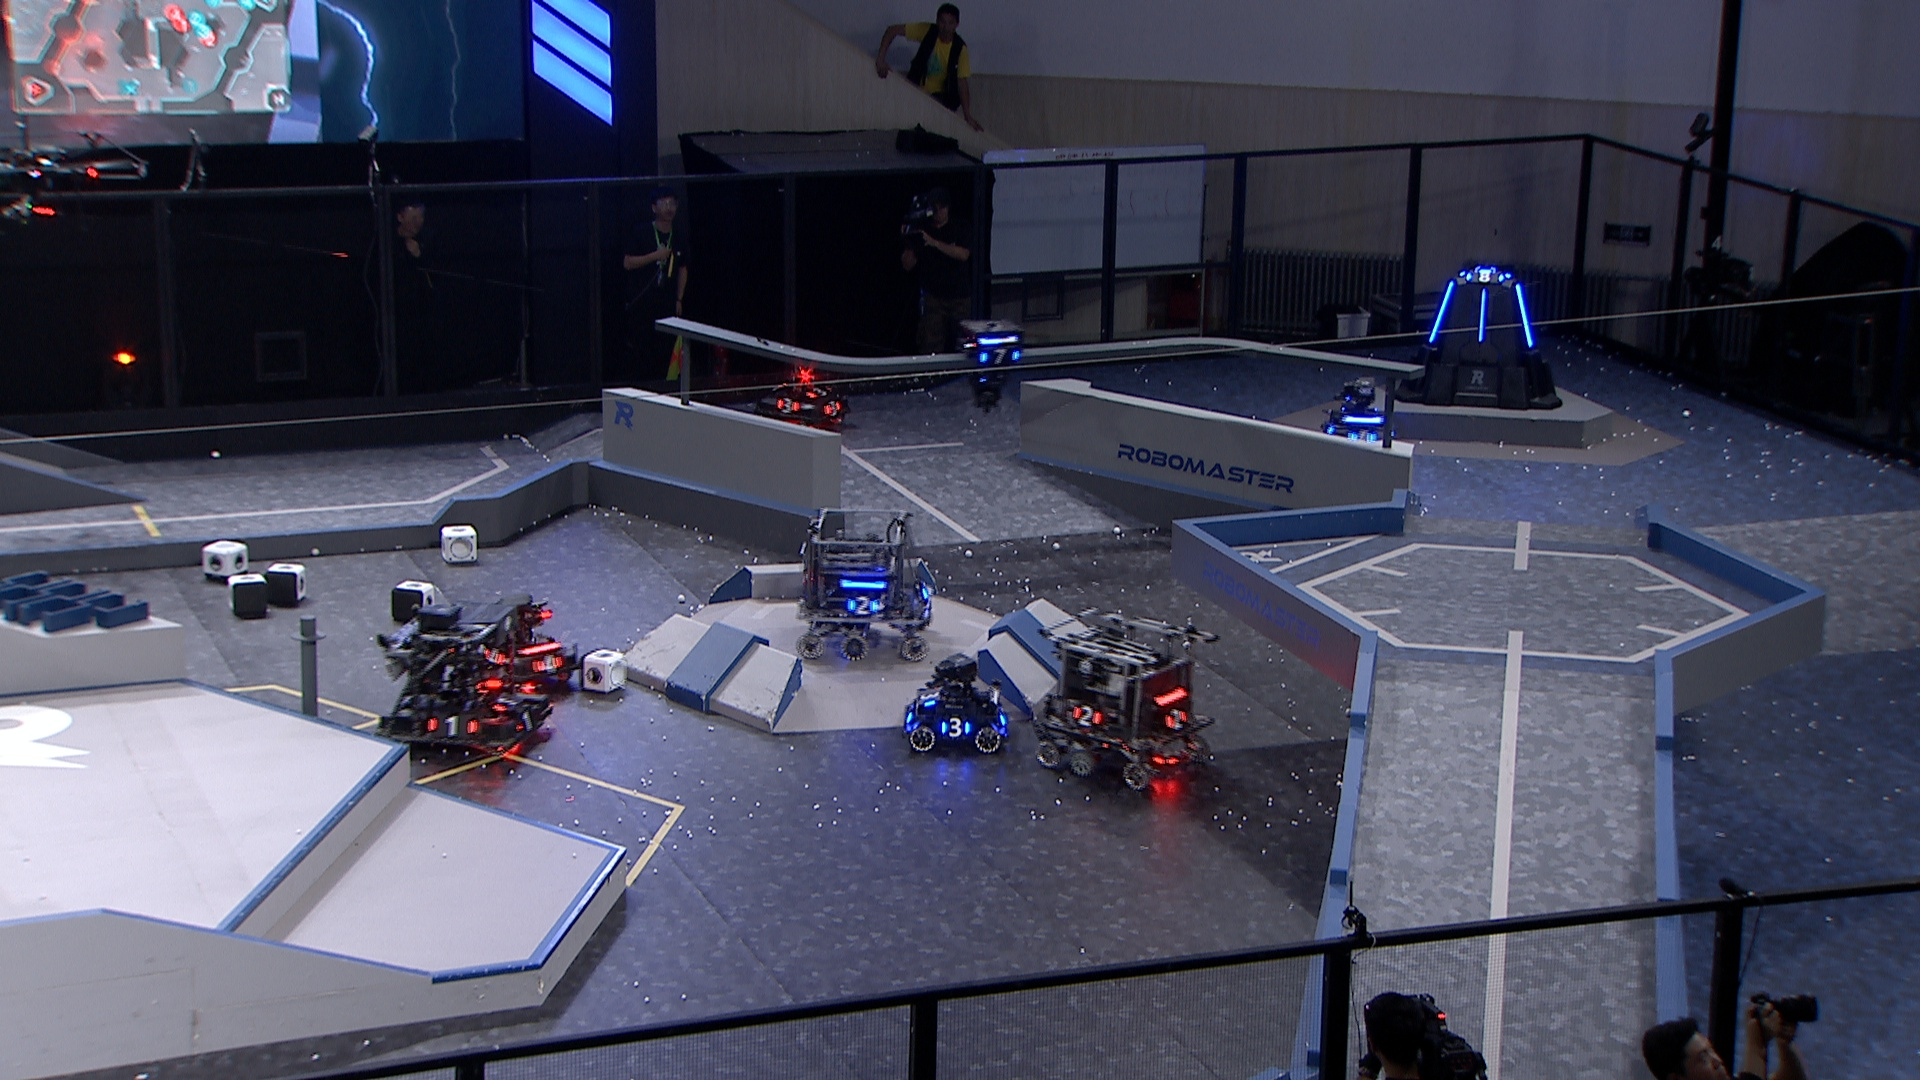armor: (1425, 280, 1460, 345), (423, 713, 483, 738), (1513, 280, 1534, 348), (1474, 284, 1490, 344), (978, 345, 1022, 367), (524, 651, 566, 673), (844, 593, 880, 617), (1462, 266, 1505, 286), (1072, 703, 1101, 731), (513, 708, 543, 735), (940, 713, 972, 737), (491, 688, 520, 713), (1162, 707, 1188, 733), (800, 380, 833, 400), (820, 396, 845, 419), (481, 645, 508, 666), (1348, 429, 1379, 446), (918, 688, 942, 709), (775, 396, 798, 415), (920, 578, 934, 603)
base: (1393, 264, 1567, 414)
car: (1031, 605, 1221, 794), (371, 597, 553, 766), (793, 501, 939, 666), (473, 588, 585, 705), (901, 651, 1013, 757), (756, 357, 855, 434), (1315, 375, 1400, 456)
watcher: (959, 316, 1027, 414)
